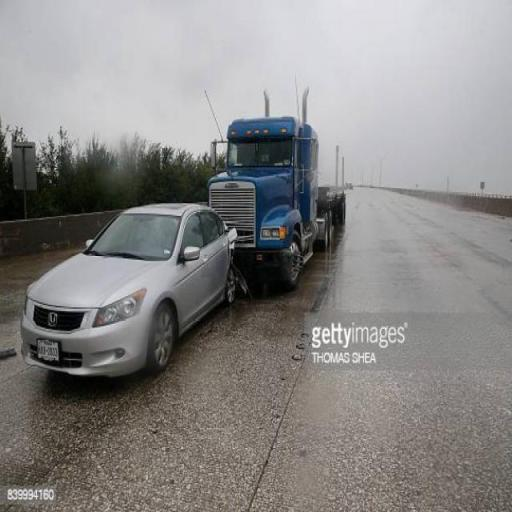小汽车: (27, 118, 351, 376)
